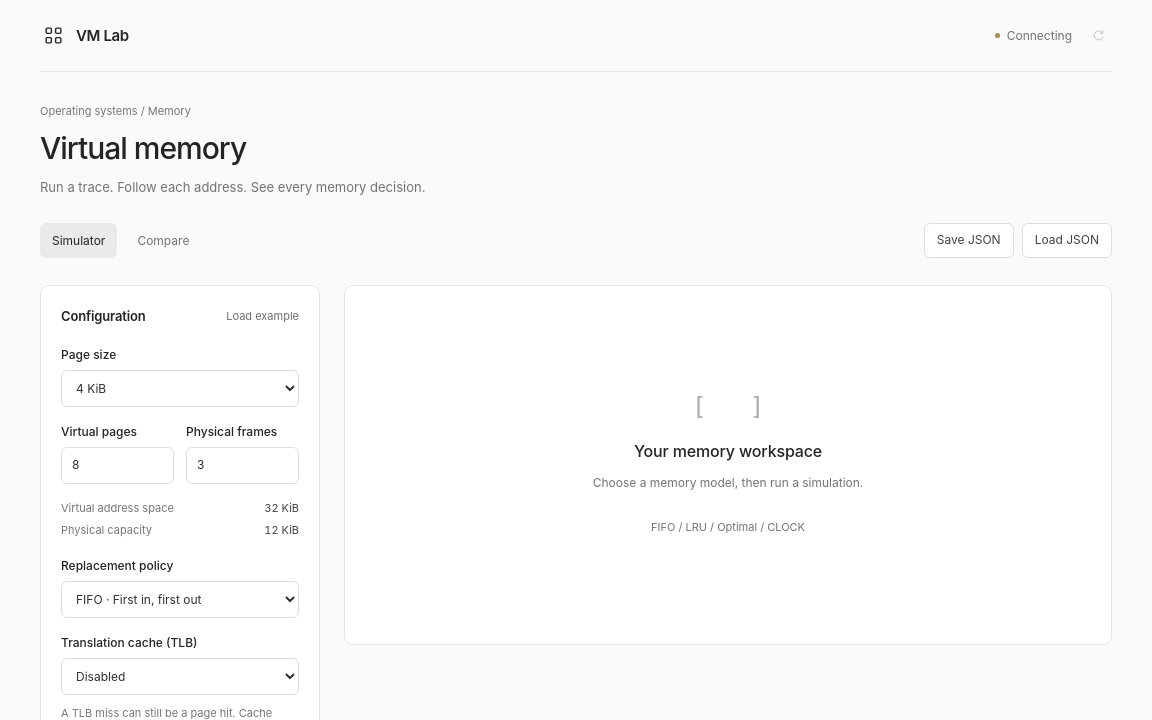
Test case: sends a fresh sweep, renders exact API metrics, and exports raw CSV rates
The width and height of the screenshot is (1152, 720).
Click the button with aria-label "compare view": coordinates (163, 240) top-left (125, 223), bottom-right (201, 258)
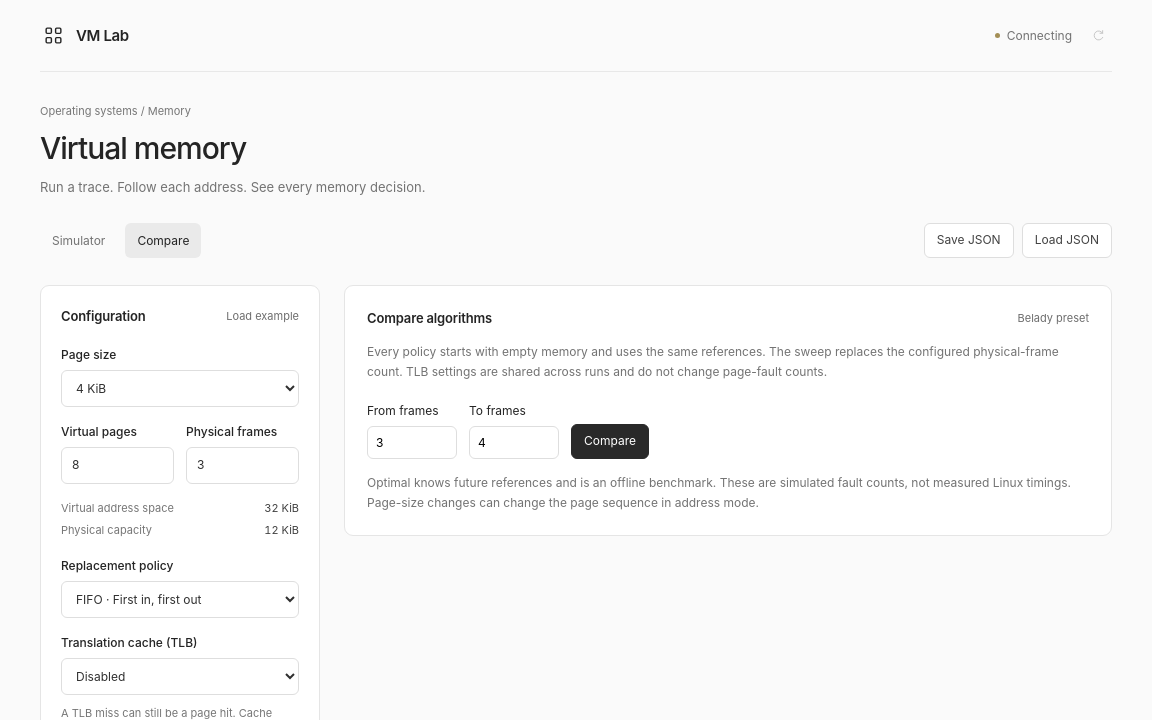
Replace the text in the number field labelled "From frames" with "1": coordinates (412, 442) top-left (367, 426), bottom-right (457, 459)
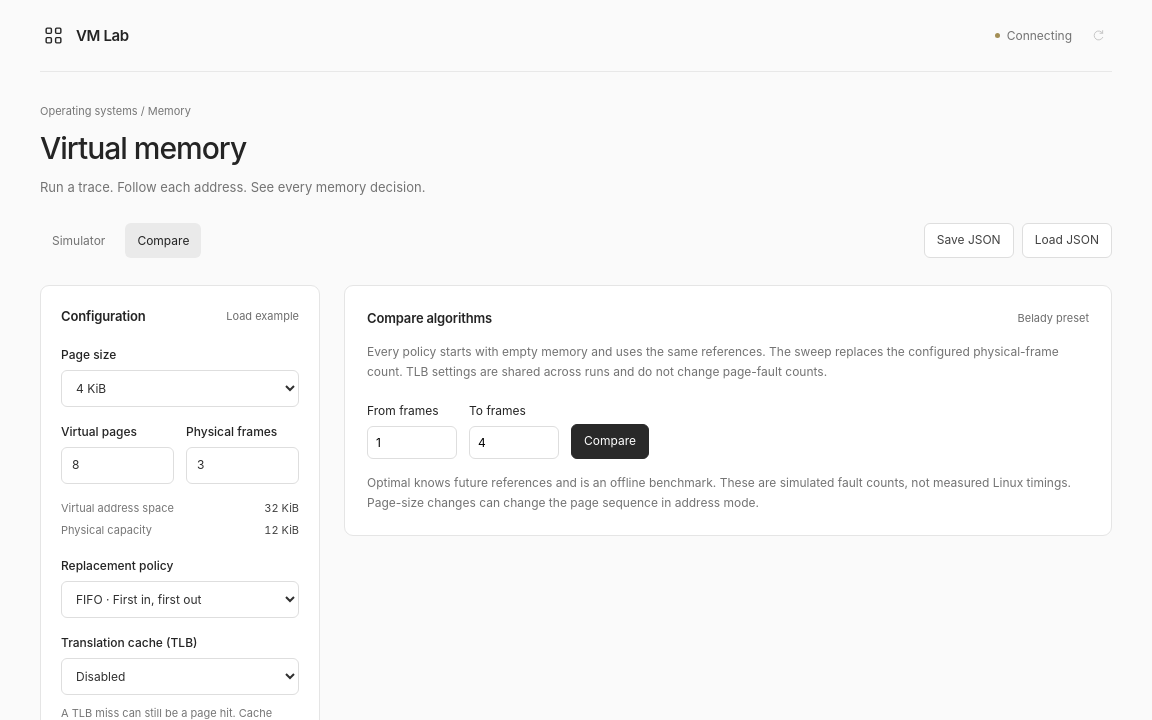
Replace the text in the number field labelled "To frames" with "2": coordinates (514, 442) top-left (469, 426), bottom-right (559, 459)
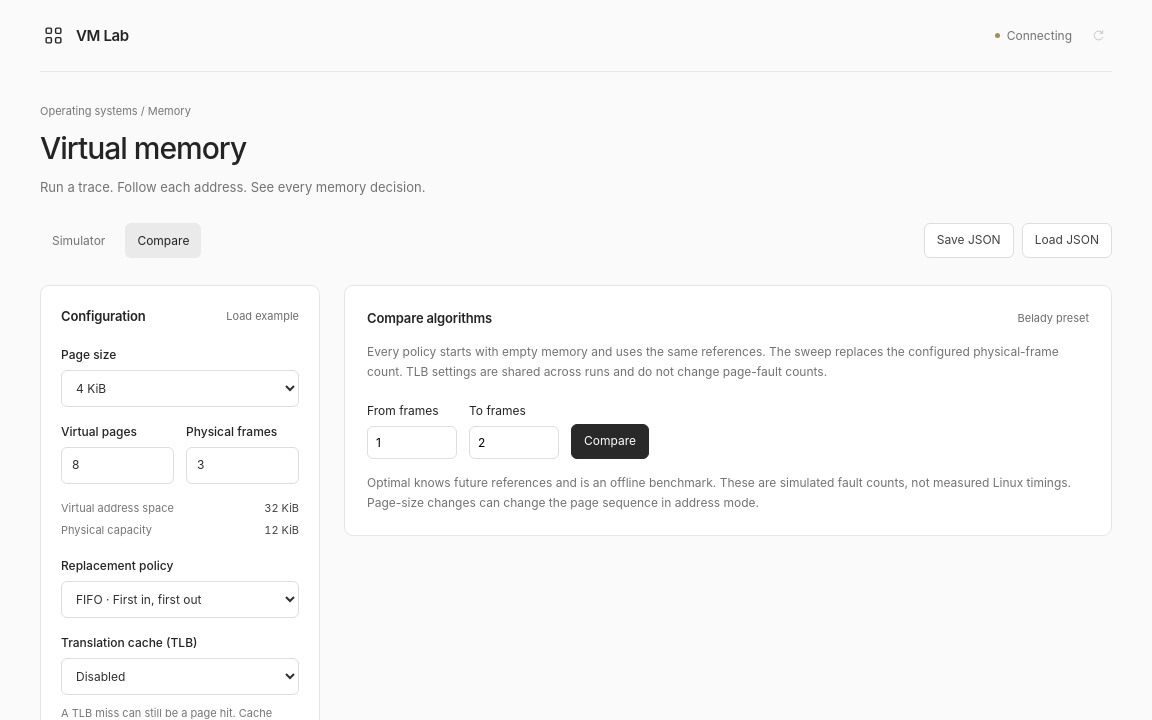
Click the button "Compare" below "From frames": coordinates (610, 441) top-left (571, 424), bottom-right (649, 459)
(page scrolled)
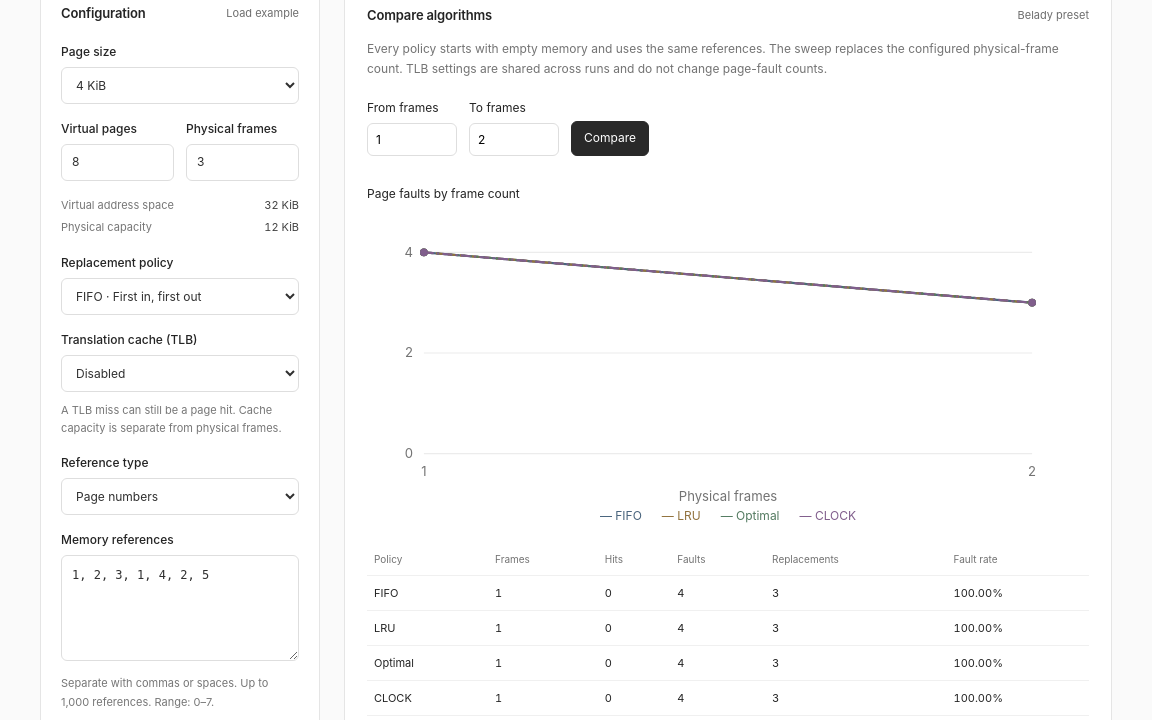
Check: the number of rows is 9
